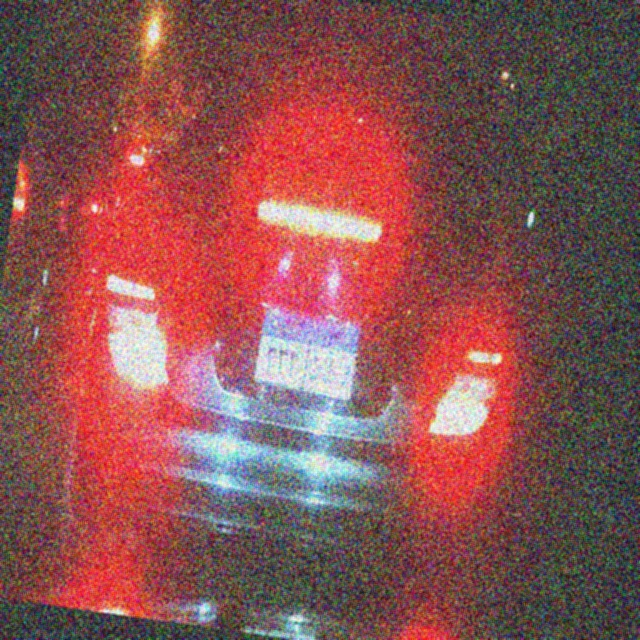License Plate: (250, 305, 364, 404)
